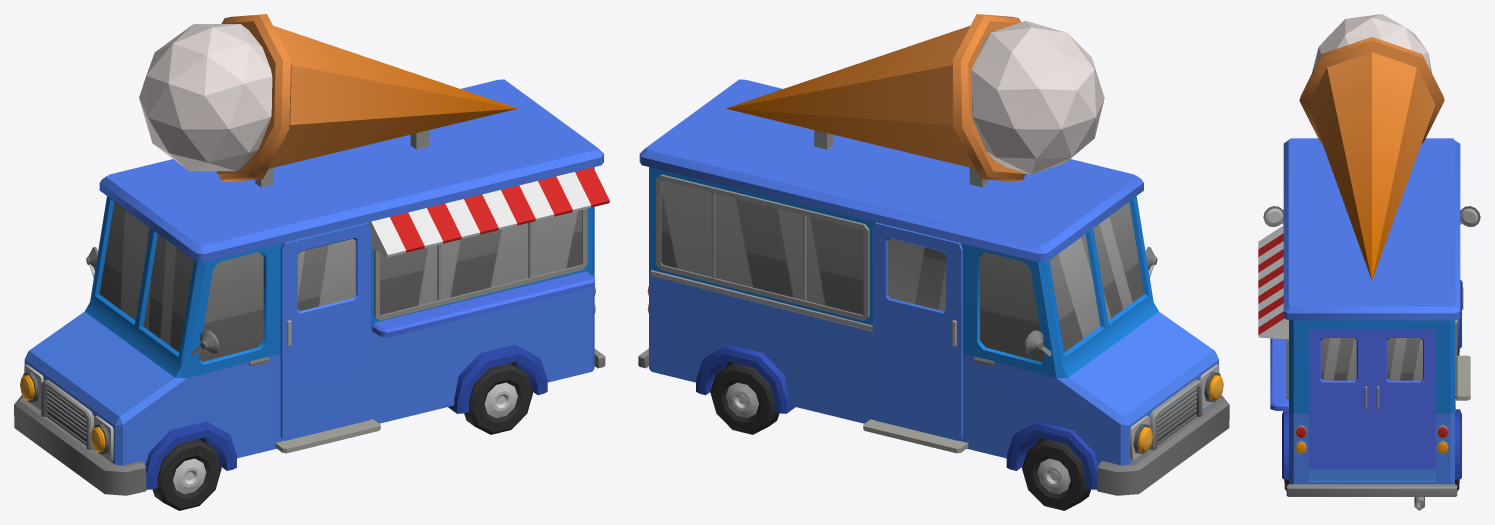
File: IceTruck_1_B.gltf
3 views of the same model, side by side, from view 1: azimuth 30°, elevation 25°; view 2: azimuth 150°, elevation 25°; view 3: azimuth 270°, elevation 25° (orthographic). The views are drawn at different scales.
Parts seen in each view (by area): view 1: IceTruck_1_B, RL, FL; view 2: IceTruck_1_B, RR, FR; view 3: IceTruck_1_B.
Part boxes in pixels (box(x1,y1,x2,y2)): IceTruck_1_B: box(14, 14, 609, 495); RL: box(464, 363, 533, 434); FL: box(152, 439, 221, 510); IceTruck_1_B: box(638, 14, 1229, 495); RR: box(710, 363, 779, 434); FR: box(1022, 439, 1090, 510); IceTruck_1_B: box(1258, 14, 1480, 510).
Bounding box in the file's own units: 4.16 × 3.38 × 1.84.
4 materials, 4 textured.
